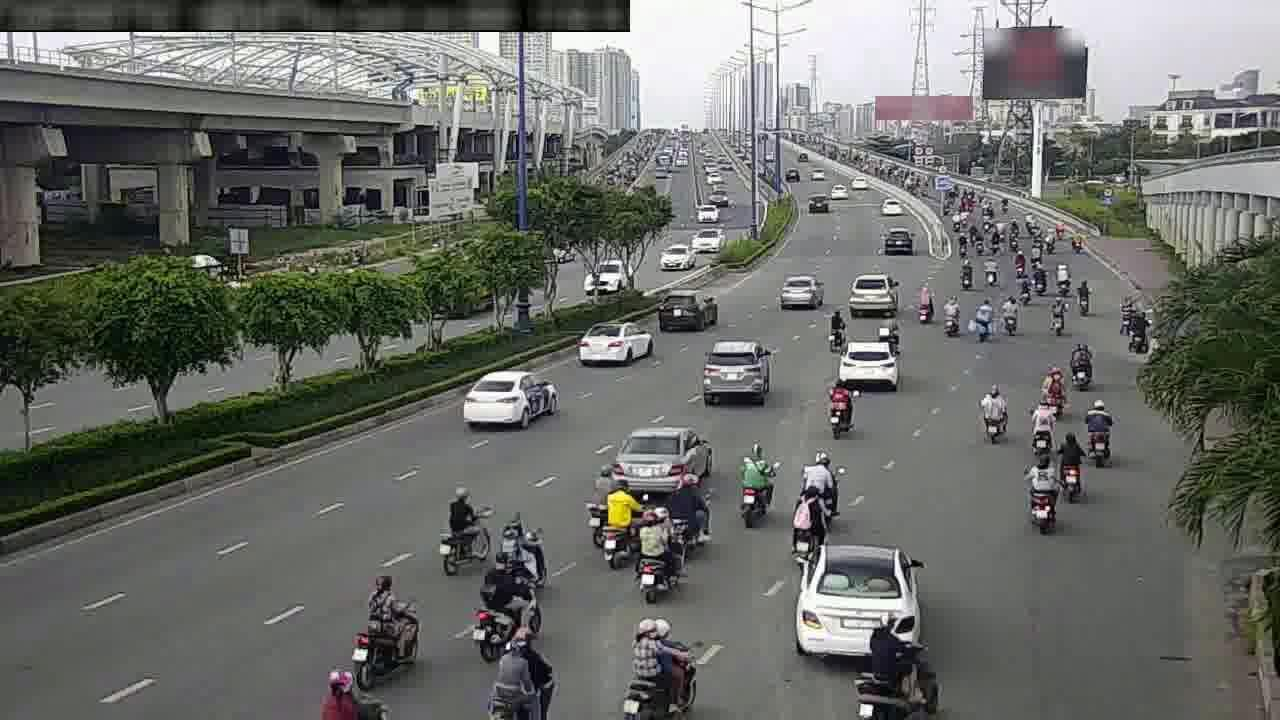container: (780, 519, 928, 663), (454, 355, 558, 439), (692, 332, 770, 408), (568, 309, 651, 378), (846, 326, 913, 398), (844, 262, 909, 327), (657, 279, 712, 339), (774, 252, 823, 312)
motorbike: (621, 604, 722, 720), (857, 620, 941, 720), (485, 632, 579, 717), (431, 485, 510, 575), (359, 562, 413, 677), (785, 447, 848, 524), (735, 437, 785, 532), (625, 508, 686, 583), (969, 378, 1033, 448), (1010, 450, 1063, 534), (597, 479, 632, 578), (1082, 391, 1119, 478), (499, 521, 550, 584), (1051, 427, 1092, 504), (1059, 337, 1106, 398), (818, 294, 861, 352), (868, 303, 908, 365), (1035, 362, 1075, 422), (1034, 396, 1065, 466), (994, 291, 1035, 342), (580, 468, 608, 542), (815, 372, 855, 423), (903, 268, 933, 331), (965, 290, 997, 340), (939, 292, 963, 350), (1044, 297, 1063, 339)
